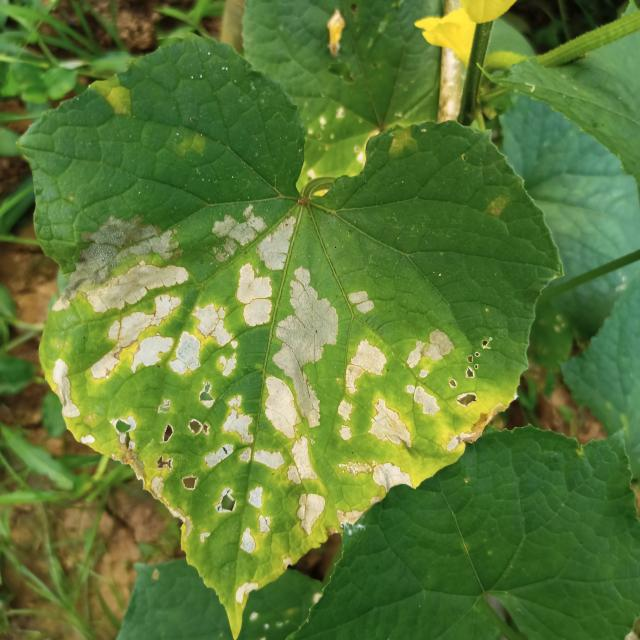disease_cucumber: (42, 199, 492, 606), (84, 67, 141, 121)
